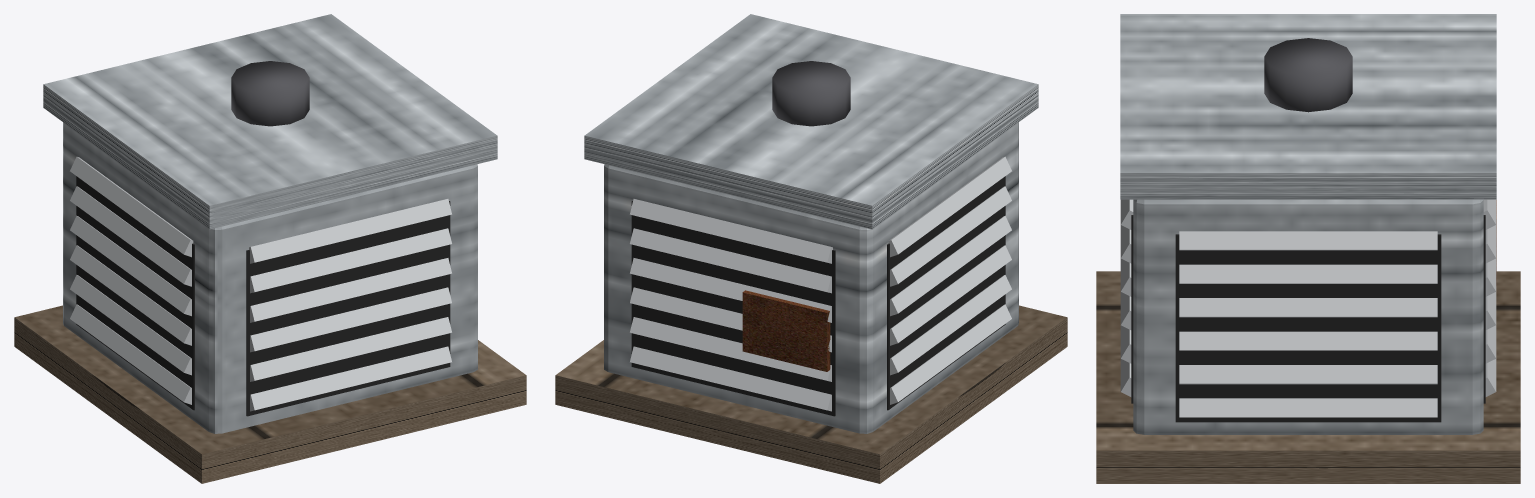
Rendered from WK_STR_SwampCooler.glb.
3 renders of one model, left to right at view 1: azimuth 30°, elevation 25°; view 2: azimuth 150°, elevation 25°; view 3: azimuth 270°, elevation 25°, orthographic. The views are drawn at different scales.
Parts seen in each view (by area): view 1: WK_STR_SwampCooler_P02, WK_STR_SwampCooler_P01, WK_STR_SwampCooler_P32, WK_STR_SwampCooler_P11, WK_STR_SwampCooler_P25, WK_STR_SwampCooler_P03, WK_STR_SwampCooler_P17, WK_STR_SwampCooler_P12, WK_STR_SwampCooler_P14, WK_STR_SwampCooler_P15, WK_STR_SwampCooler_P16, WK_STR_SwampCooler_P13 (+6 smaller); view 2: WK_STR_SwampCooler_P02, WK_STR_SwampCooler_P01, WK_STR_SwampCooler_P32, WK_STR_SwampCooler_P04, WK_STR_SwampCooler_P25, WK_STR_SwampCooler_P34, WK_STR_SwampCooler_P03, WK_STR_SwampCooler_P10, WK_STR_SwampCooler_P05, WK_STR_SwampCooler_P09, WK_STR_SwampCooler_P06, WK_STR_SwampCooler_P31 (+7 smaller); view 3: WK_STR_SwampCooler_P02, WK_STR_SwampCooler_P01, WK_STR_SwampCooler_P32, WK_STR_SwampCooler_P18, WK_STR_SwampCooler_P03, WK_STR_SwampCooler_P19, WK_STR_SwampCooler_P20, WK_STR_SwampCooler_P21, WK_STR_SwampCooler_P22, WK_STR_SwampCooler_P23, WK_STR_SwampCooler_P24, WK_STR_SwampCooler_P04 (+1 smaller).
Part boxes in pixels (x1,y1,x2,y2): WK_STR_SwampCooler_P02: [43, 14, 497, 229]; WK_STR_SwampCooler_P01: [63, 122, 477, 433]; WK_STR_SwampCooler_P32: [14, 305, 526, 483]; WK_STR_SwampCooler_P11: [246, 201, 450, 416]; WK_STR_SwampCooler_P25: [76, 176, 194, 410]; WK_STR_SwampCooler_P03: [231, 61, 309, 126]; WK_STR_SwampCooler_P17: [249, 199, 451, 263]; WK_STR_SwampCooler_P12: [250, 346, 451, 411]; WK_STR_SwampCooler_P14: [250, 287, 451, 352]; WK_STR_SwampCooler_P15: [250, 258, 451, 322]; WK_STR_SwampCooler_P16: [250, 228, 451, 293]; WK_STR_SwampCooler_P13: [250, 317, 451, 381]; WK_STR_SwampCooler_P02: [584, 14, 1038, 229]; WK_STR_SwampCooler_P01: [604, 122, 1018, 433]; WK_STR_SwampCooler_P32: [555, 305, 1067, 483]; WK_STR_SwampCooler_P04: [631, 201, 835, 416]; WK_STR_SwampCooler_P25: [887, 176, 1005, 410]; WK_STR_SwampCooler_P34: [742, 290, 830, 371]; WK_STR_SwampCooler_P03: [772, 61, 850, 126]; WK_STR_SwampCooler_P10: [630, 199, 832, 263]; WK_STR_SwampCooler_P05: [630, 346, 831, 411]; WK_STR_SwampCooler_P09: [630, 228, 831, 293]; WK_STR_SwampCooler_P06: [630, 317, 831, 381]; WK_STR_SwampCooler_P31: [888, 156, 1011, 257]; WK_STR_SwampCooler_P02: [1120, 14, 1496, 199]; WK_STR_SwampCooler_P01: [1133, 199, 1483, 434]; WK_STR_SwampCooler_P32: [1096, 271, 1520, 483]; WK_STR_SwampCooler_P18: [1175, 234, 1441, 422]; WK_STR_SwampCooler_P03: [1264, 38, 1352, 112]; WK_STR_SwampCooler_P19: [1179, 398, 1437, 417]; WK_STR_SwampCooler_P20: [1179, 365, 1437, 384]; WK_STR_SwampCooler_P21: [1179, 331, 1437, 350]; WK_STR_SwampCooler_P22: [1179, 298, 1437, 317]; WK_STR_SwampCooler_P23: [1179, 264, 1437, 283]; WK_STR_SwampCooler_P24: [1179, 231, 1437, 250]; WK_STR_SwampCooler_P04: [1483, 215, 1485, 403].
Bounding box in the file's own units: 1.15 × 1.01 × 1.15.
6 materials, 3 textured.
